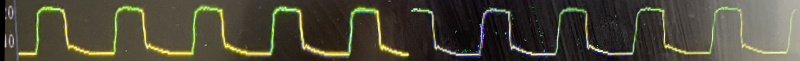normal_pressure: (14, 0, 800, 61)
